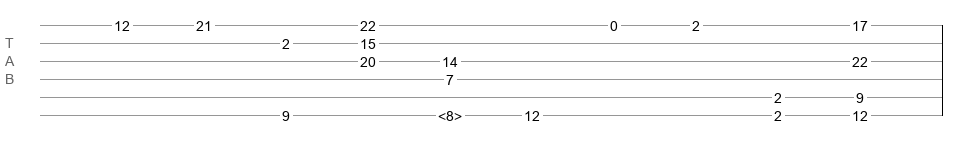0: (610, 18, 618, 28)
12: (114, 18, 130, 28), (524, 108, 540, 118), (852, 108, 868, 118)
14: (442, 54, 458, 64)
15: (360, 36, 376, 46)
17: (852, 18, 868, 28)
2: (282, 36, 290, 46), (692, 18, 700, 28), (774, 108, 782, 118), (774, 90, 782, 100)
20: (360, 54, 376, 64)
21: (196, 18, 212, 28)
22: (360, 18, 376, 28), (852, 54, 868, 64)
7: (446, 72, 454, 82)
9: (282, 108, 290, 118), (856, 90, 864, 100)
harmonic: (438, 108, 462, 118)
